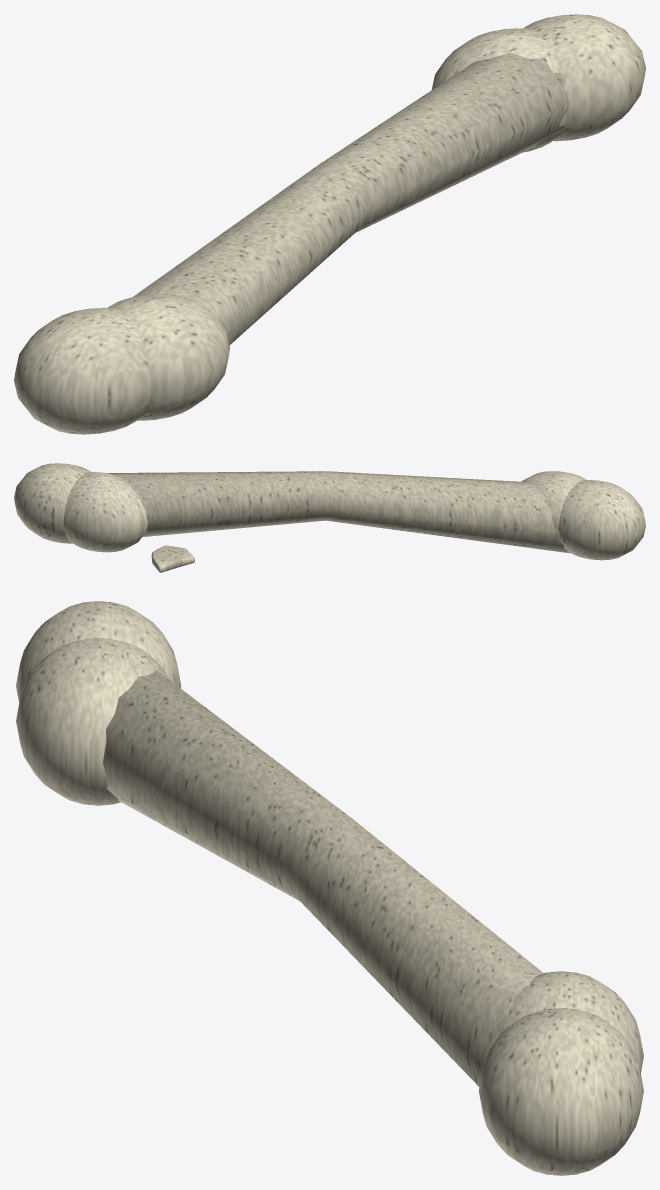
File: food-12-residue.glb
The picture shows the model from 3 angles, top to bottom: view 1: azimuth 30°, elevation 25°; view 2: azimuth 150°, elevation 25°; view 3: azimuth 270°, elevation 25°; orthographic projection. The views are drawn at different scales.
Visible parts, largest first — view 1: Food; view 2: Food; view 3: Food.
Part boxes in pixels (<box>): Food: <box>14,14,645,434</box>; Food: <box>14,463,645,572</box>; Food: <box>16,601,643,1175</box>.
Bounding box in the file's own units: 0.71 × 0.098 × 0.38.
1 material, 1 textured.
